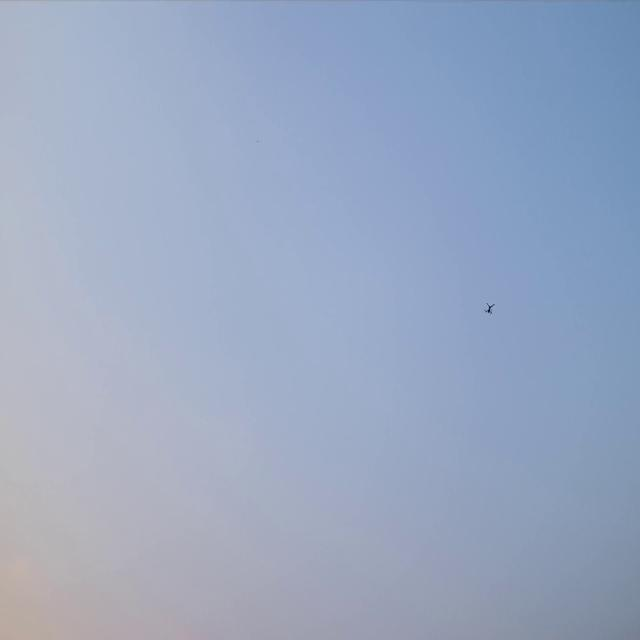UAV: (483, 301, 496, 316)
